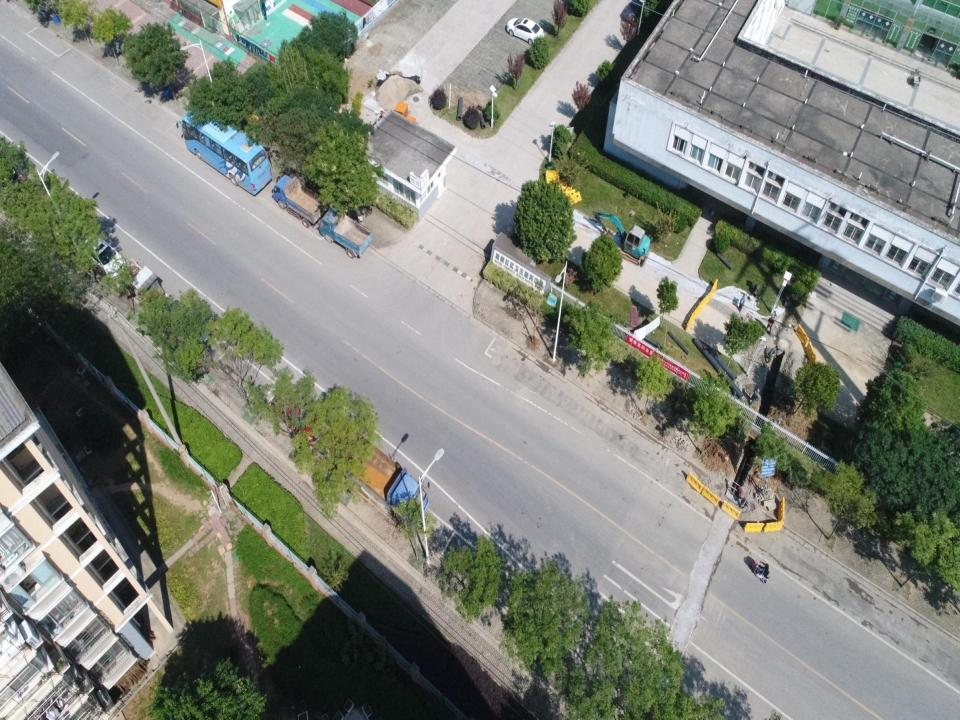bus: (181, 102, 272, 196)
car: (271, 388, 326, 443), (161, 299, 211, 351), (82, 234, 128, 280), (506, 16, 544, 46), (0, 146, 29, 182), (623, 0, 645, 24)
truck: (338, 431, 430, 530), (272, 173, 329, 228), (319, 207, 373, 260), (118, 256, 166, 312)
